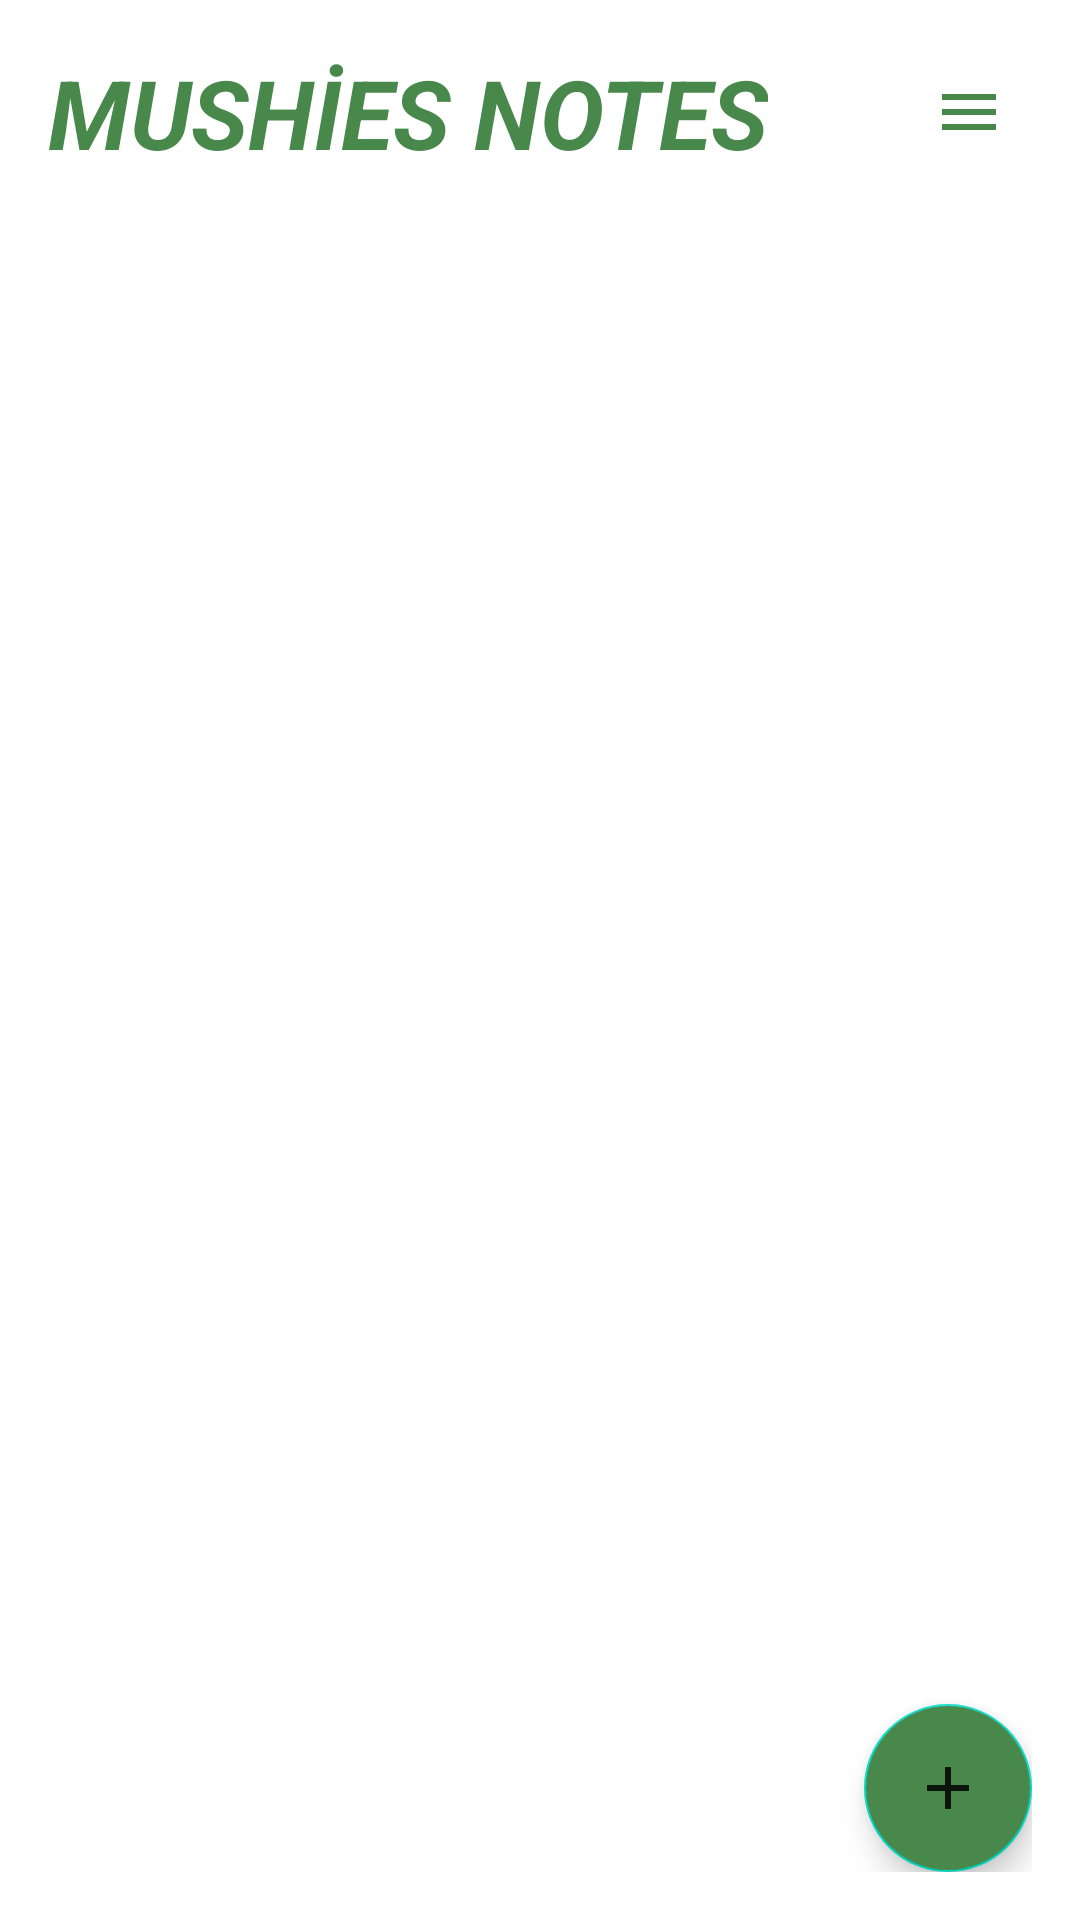

Named icons in this screenshot (1080 × 1920) and their bounding boxes, (x1, y1, x2, y2):
add: (864, 1704, 1032, 1872)
menu: (942, 94, 996, 130)
